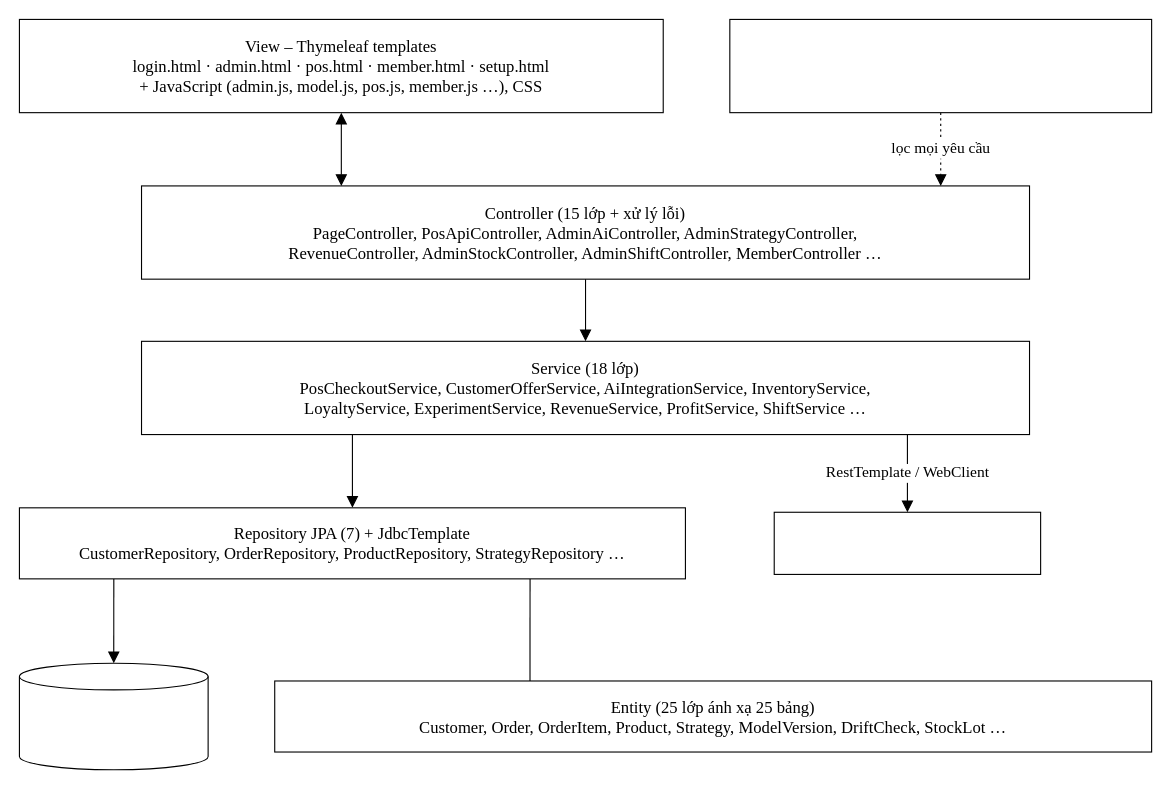
The diagram is 1171 pixels wide and 789 high, and some of its shapes have lost their labels. Here are the shapes that lost their labels. From the top down, the box of each, then its label:
(729, 18, 1152, 113): Security SecurityConfig, AccountService, PublicMemberGateway, MemberRateLimiter
(773, 511, 1041, 574): FastAPI (dịch vụ AI)
(18, 662, 208, 770): SQL Server
